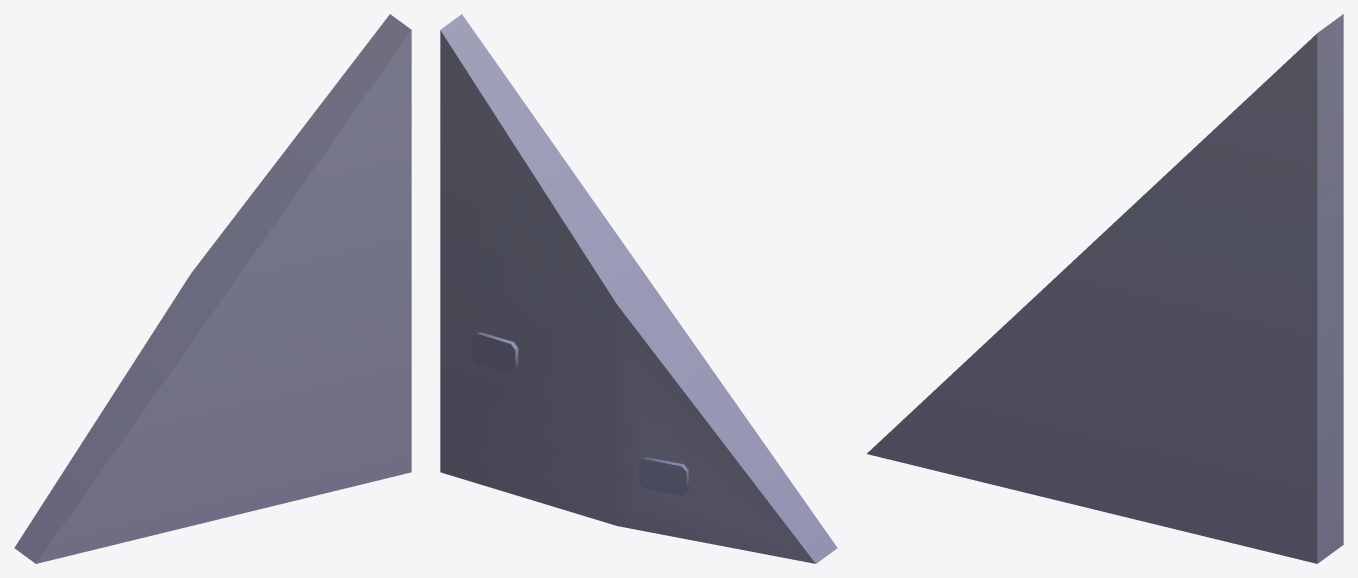
Rendered from kenney-modular-dungeon-template-wall-stairs.glb.
The picture shows the model from 3 angles, left to right: view 1: azimuth 30°, elevation 25°; view 2: azimuth 150°, elevation 25°; view 3: azimuth 330°, elevation 25°; orthographic projection. The views are drawn at different scales.
Parts seen in each view (by area): view 1: template-wall-stairs; view 2: template-wall-stairs; view 3: template-wall-stairs.
Part boxes in pixels (x1,y1,x2,y2): template-wall-stairs: (14, 14, 411, 563); template-wall-stairs: (440, 14, 837, 563); template-wall-stairs: (867, 14, 1343, 563).
Bounding box in the file's own units: 4 × 4.5 × 0.6262.
1 material, 1 textured.
